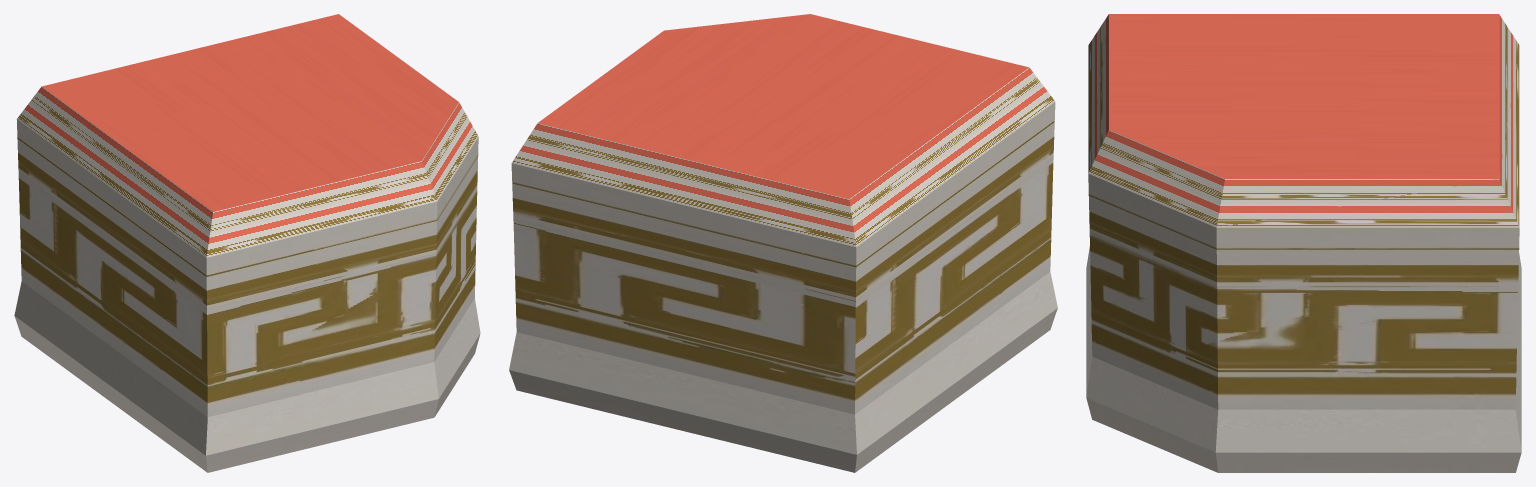
File: corner_rect90_coral.glb
3 views of the same model, side by side, from view 1: azimuth 30°, elevation 25°; view 2: azimuth 150°, elevation 25°; view 3: azimuth 270°, elevation 25° (orthographic). The views are drawn at different scales.
Parts seen in each view (by area): view 1: corner_rect90_coral; view 2: corner_rect90_coral; view 3: corner_rect90_coral.
Part boxes in pixels (x1,y1,x2,y2): corner_rect90_coral: [14, 14, 480, 472]; corner_rect90_coral: [509, 14, 1057, 472]; corner_rect90_coral: [1086, 14, 1521, 472].
Size of the model in its own units: 0.7391 by 0.5376 by 0.7391.
Materials: 1 (1 with a texture image).
